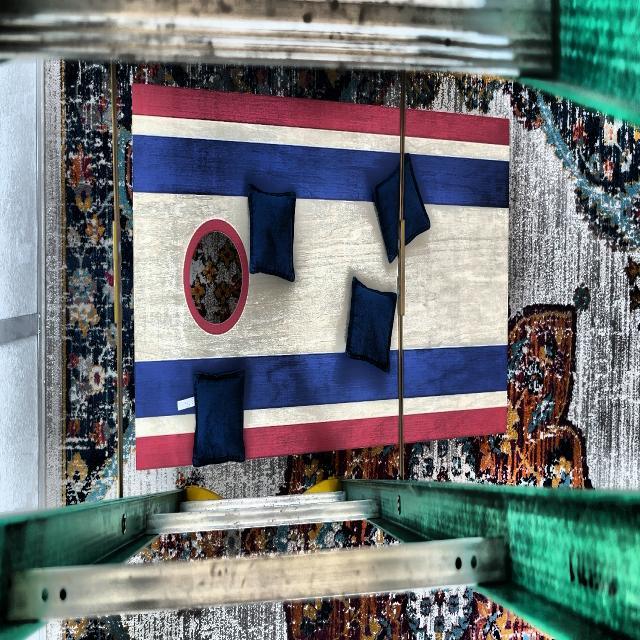blue-bean-bag: (375, 156, 431, 264), (192, 372, 244, 464), (346, 278, 396, 370), (247, 186, 295, 280)
board: (135, 119, 507, 426)
hole: (183, 218, 249, 335)
